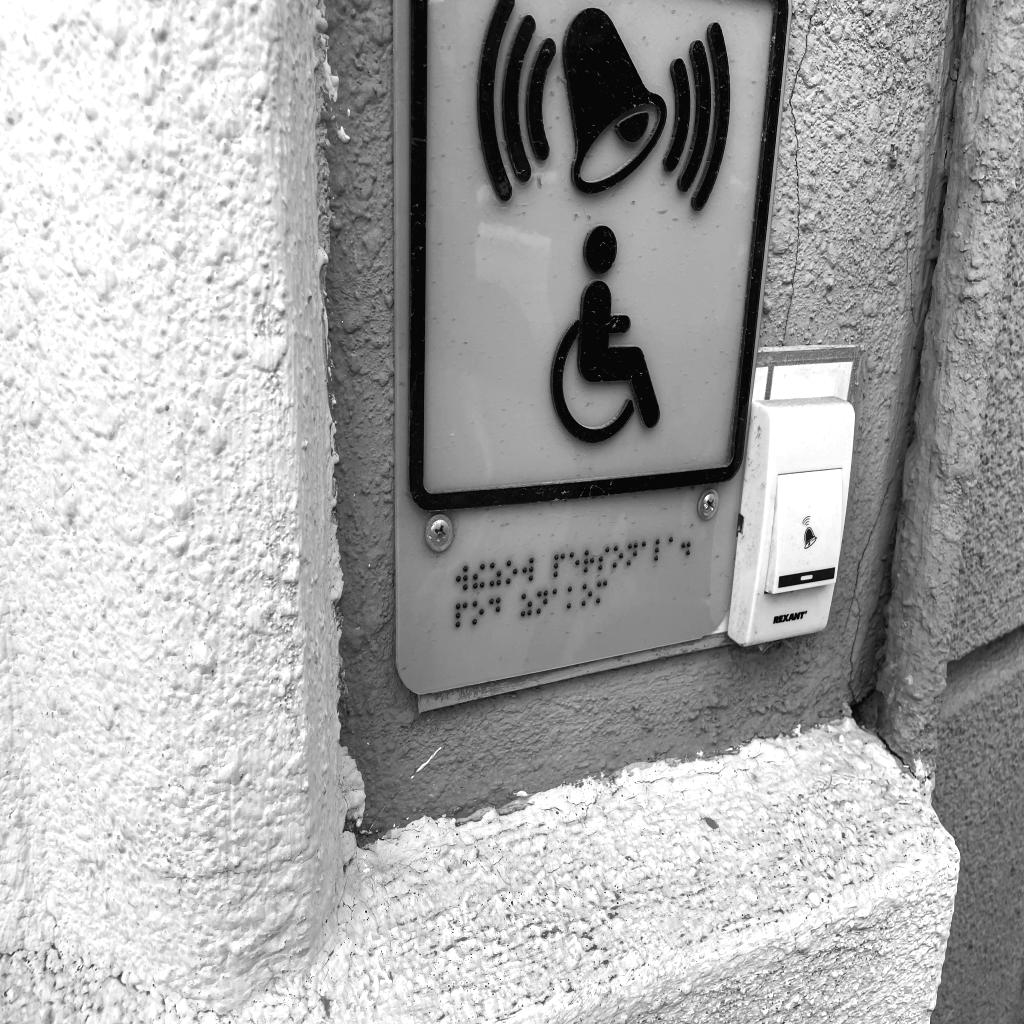_n: (537, 590, 549, 615), (627, 541, 638, 566)
a: (552, 588, 563, 610), (641, 541, 651, 564), (668, 537, 678, 558)
d: (489, 596, 501, 622)
e: (569, 551, 580, 575)
ii: (473, 563, 486, 590)
k: (567, 586, 578, 609)
l: (654, 538, 666, 561)
m: (596, 580, 608, 604)
o: (506, 560, 518, 585), (473, 600, 485, 625), (613, 545, 624, 568), (582, 583, 593, 606)
p: (455, 602, 468, 628), (553, 553, 566, 578)
r: (583, 549, 595, 573)
s: (598, 547, 610, 571)
tochka: (681, 535, 691, 555)
v: (456, 566, 469, 590), (522, 557, 534, 581)
z: (489, 562, 501, 587), (521, 593, 532, 617)
